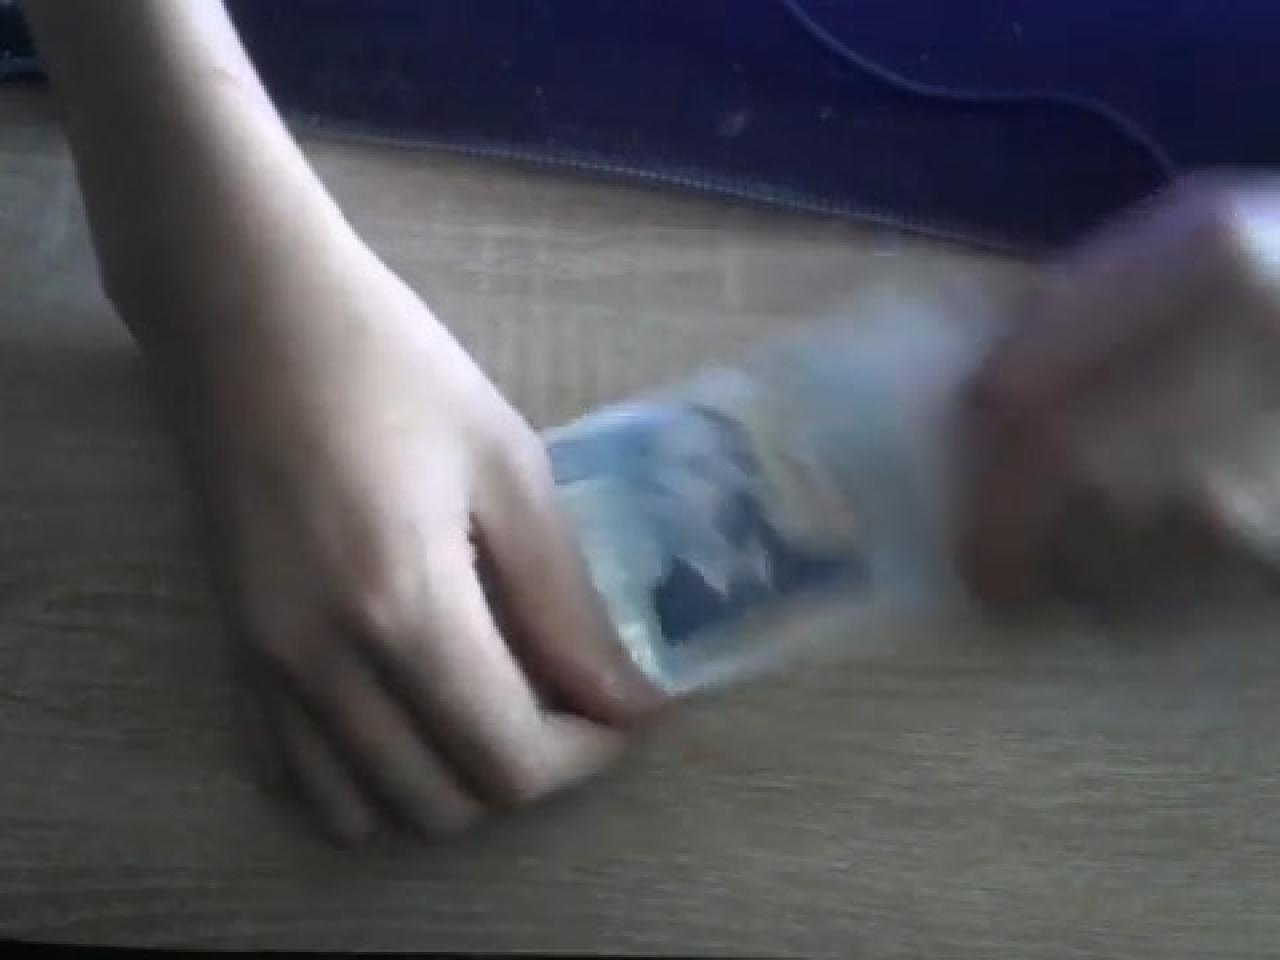20leva: (536, 310, 1000, 696)
